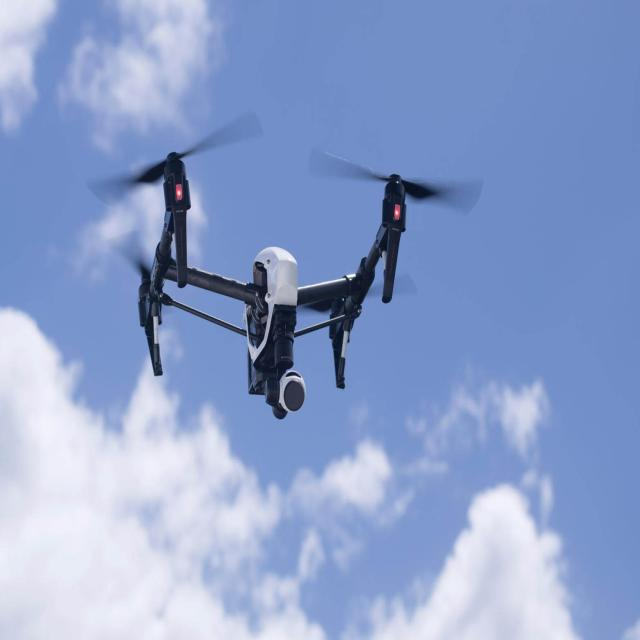drone: (82, 106, 486, 422)
